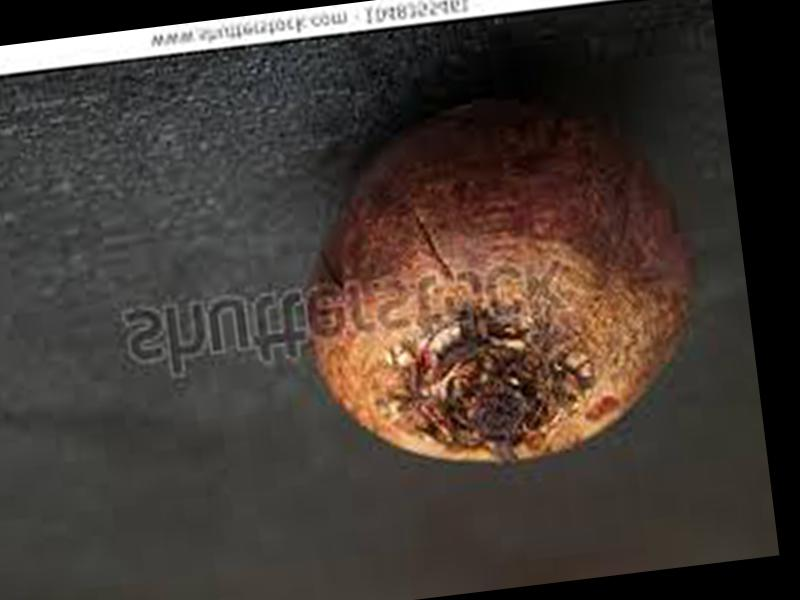Beet: (288, 81, 719, 480)
